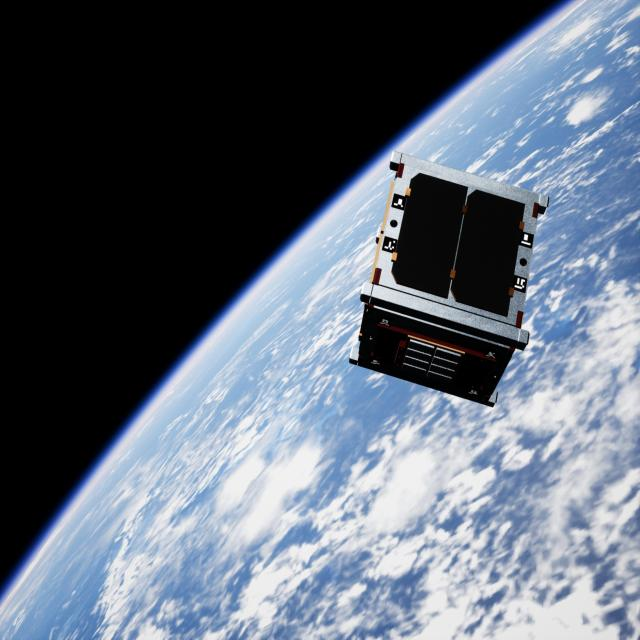satellite: (349, 148, 553, 404)
